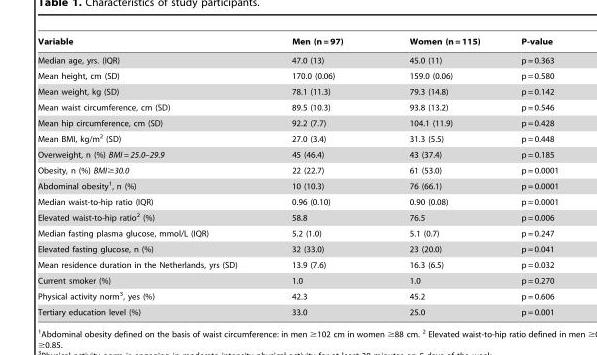table: (37, 36, 558, 316)
table column: (37, 36, 263, 316), (375, 36, 500, 316), (263, 36, 375, 316), (500, 36, 558, 316)
table column header: (37, 36, 558, 50)
table row: (37, 50, 558, 67), (37, 208, 558, 225), (37, 287, 558, 304), (37, 67, 558, 83), (37, 83, 558, 99), (37, 99, 558, 115), (37, 130, 558, 146), (37, 146, 558, 162), (37, 177, 558, 193), (37, 225, 558, 241), (37, 256, 558, 272), (37, 115, 558, 130), (37, 162, 558, 177), (37, 193, 558, 208), (37, 241, 558, 256), (37, 272, 558, 287), (37, 36, 558, 50), (37, 304, 558, 316)
